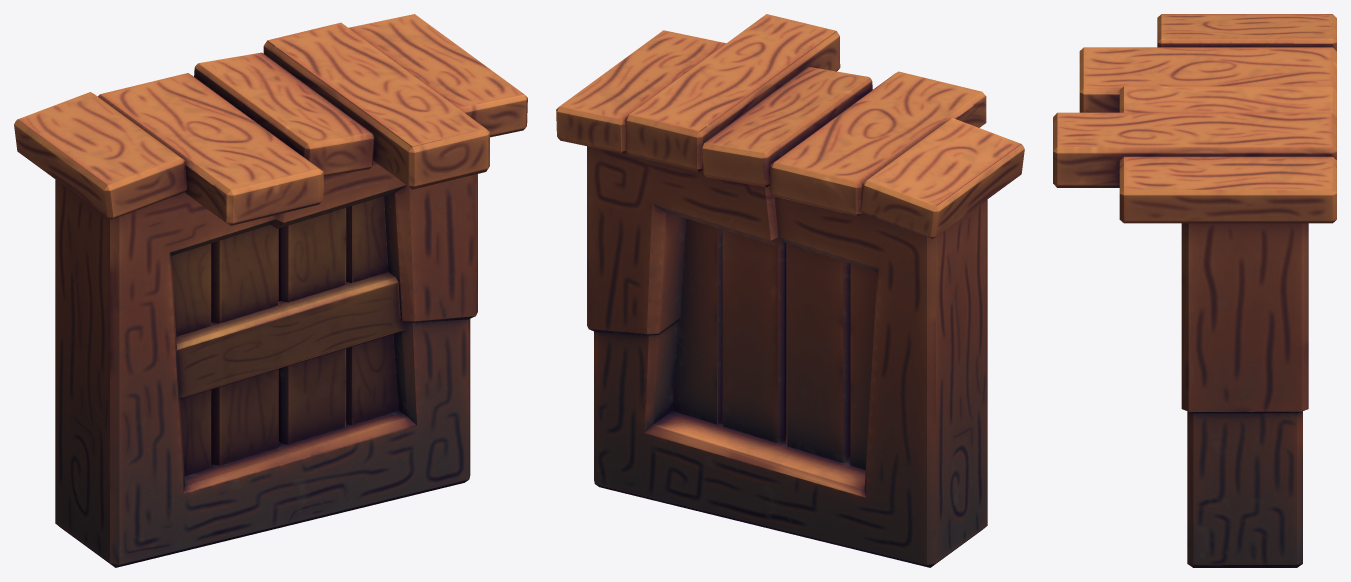
Rendered from DoorSquareWood.dae.
3 renders of one model, left to right at view 1: azimuth 30°, elevation 25°; view 2: azimuth 150°, elevation 25°; view 3: azimuth 270°, elevation 25°, orthographic. The views are drawn at different scales.
Visible parts, largest first — view 1: Plane; view 2: Plane; view 3: Plane.
Boxes of the visible parts, x1=… form: Plane: x1=14, y1=14, x2=527, y2=567; Plane: x1=556, y1=14, x2=1024, y2=567; Plane: x1=1053, y1=14, x2=1336, y2=567.
Size of the model in its own units: 3.06 by 1.96 by 3.03.
1 material, 1 textured.
